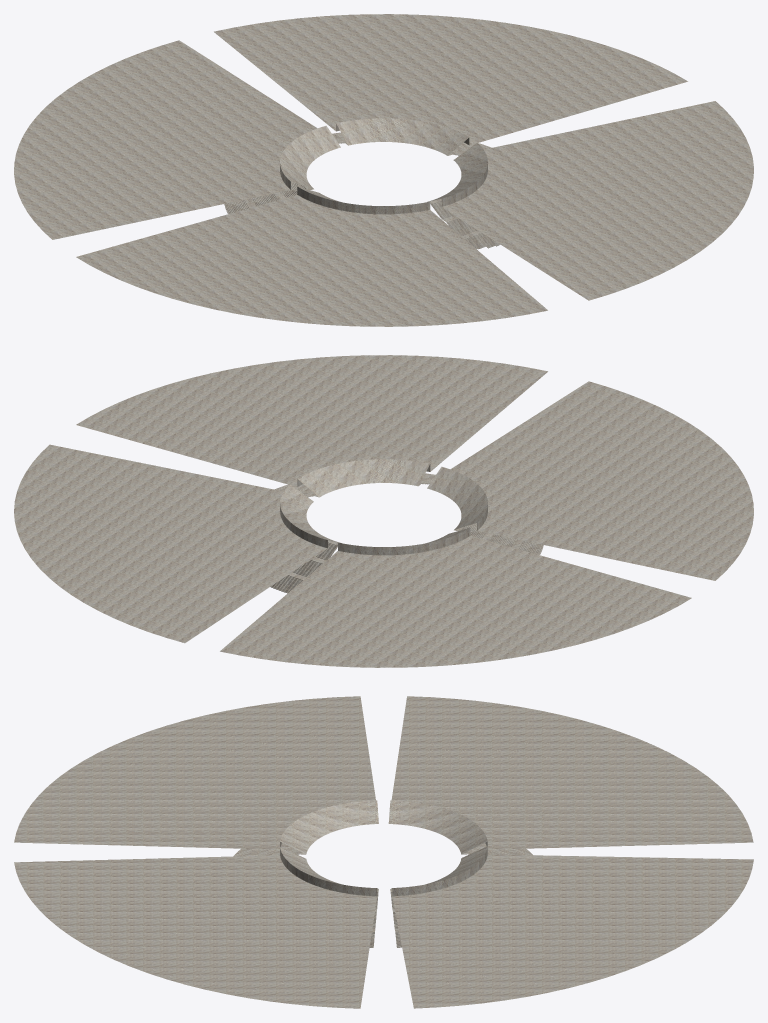
The model's file is Chamber.fbx.
3 renders of one model, top to bottom at view 1: azimuth 30°, elevation 25°; view 2: azimuth 150°, elevation 25°; view 3: azimuth 270°, elevation 25°, orthographic.
Visible parts, largest first — view 1: Chamber; view 2: Chamber; view 3: Chamber.
Part boxes in pixels (bbox=[...]): Chamber: bbox=[14, 14, 753, 326]; Chamber: bbox=[14, 355, 753, 667]; Chamber: bbox=[14, 696, 753, 1008].
Bounding box in the file's own units: 8760 × 473 × 8764.
